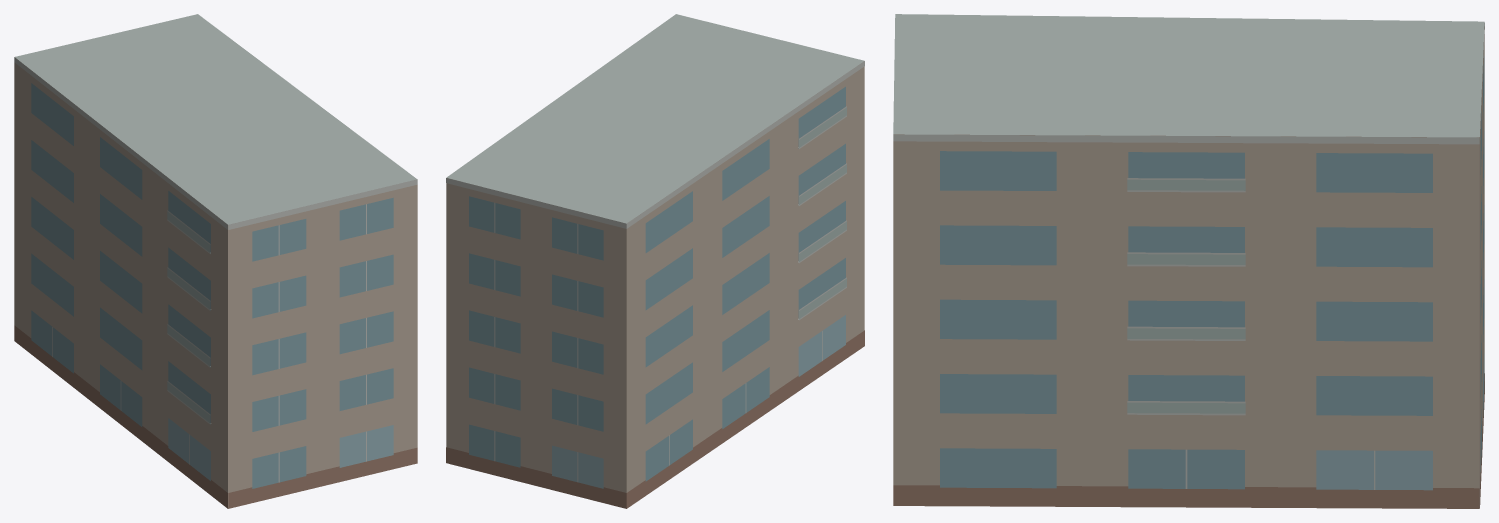
Rendered from survey-upis-32737794.glb.
3 views of the same model, side by side, from view 1: azimuth 30°, elevation 25°; view 2: azimuth 150°, elevation 25°; view 3: azimuth 270°, elevation 25° (orthographic). The views are drawn at different scales.
Visible parts, largest first — view 1: survey-upis-32737794.tmp; view 2: survey-upis-32737794.tmp; view 3: survey-upis-32737794.tmp.
Boxes of the visible parts, x1=… form: survey-upis-32737794.tmp: x1=14, y1=14, x2=417, y2=508; survey-upis-32737794.tmp: x1=446, y1=14, x2=864, y2=508; survey-upis-32737794.tmp: x1=893, y1=14, x2=1484, y2=508.
Bounding box in the file's own units: 9.27 × 13 × 18.77.
